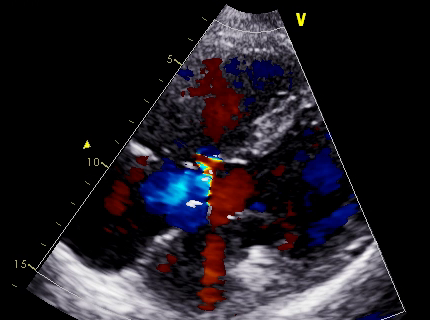TR: (128, 138, 224, 229)
